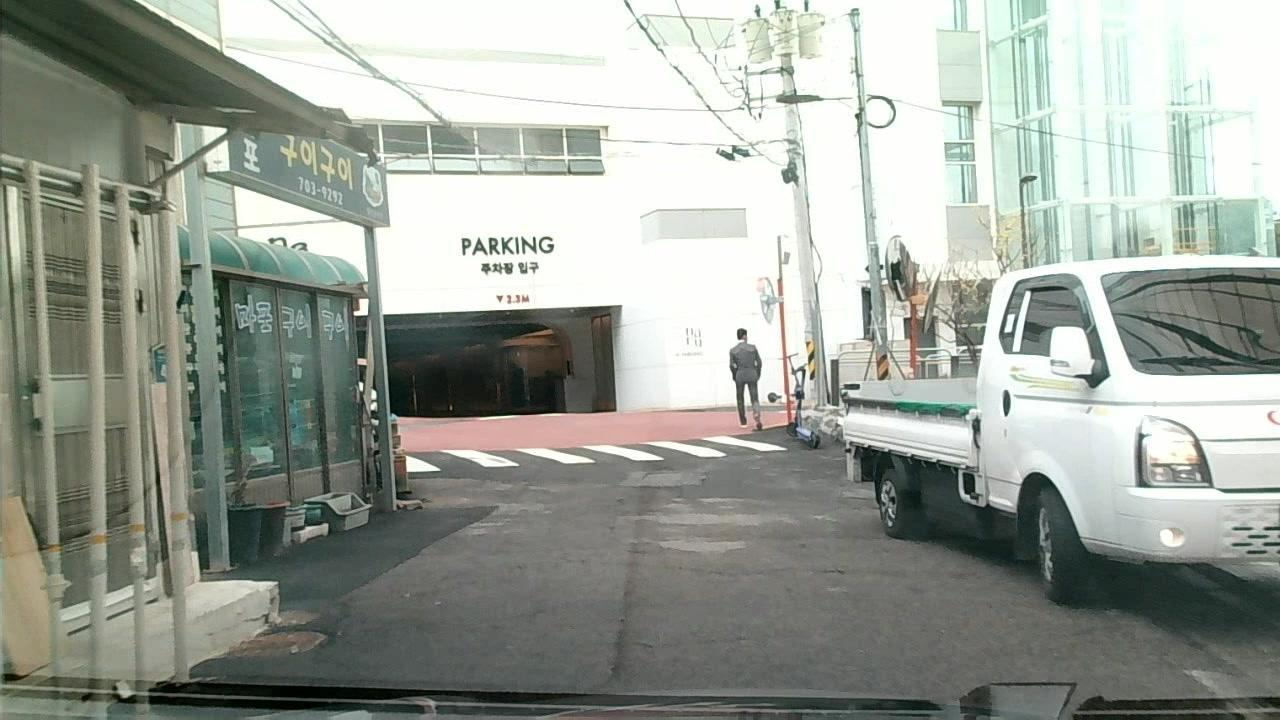banner: (609, 545, 637, 688)
